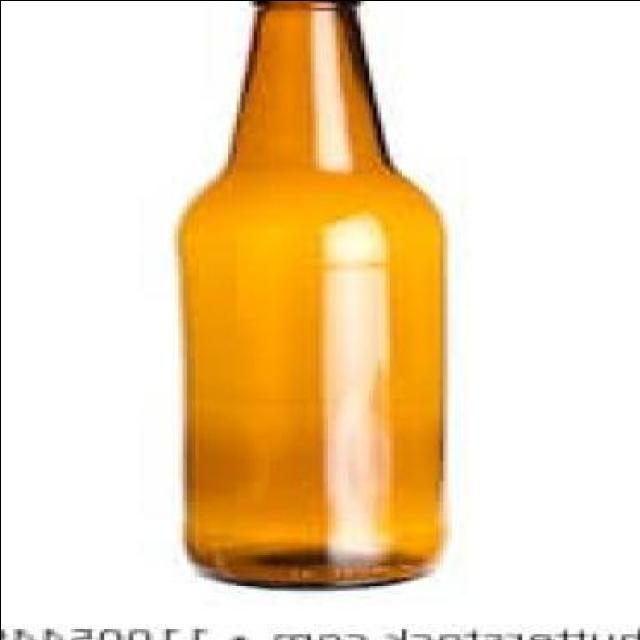kaca: (185, 0, 448, 585)
